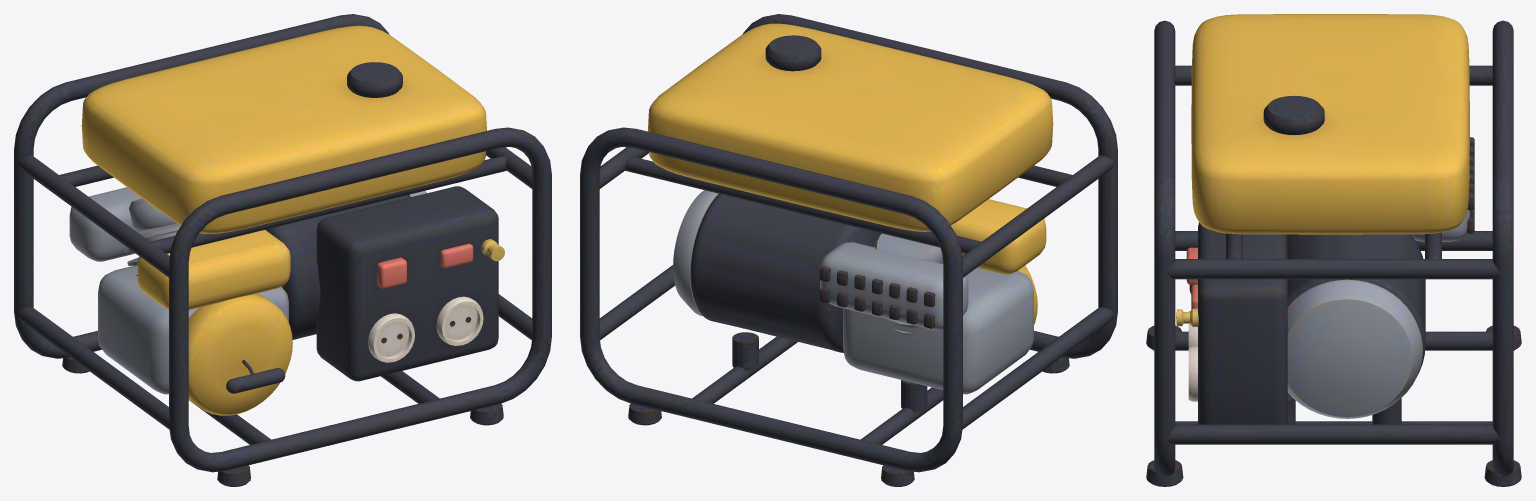
The model's file is generator.glb.
The picture shows the model from 3 angles, left to right: view 1: azimuth 30°, elevation 25°; view 2: azimuth 150°, elevation 25°; view 3: azimuth 270°, elevation 25°; orthographic projection. The views are drawn at different scales.
Visible parts, largest first — view 1: generator_body; view 2: generator_body; view 3: generator_body.
Part boxes in pixels (x1=…): generator_body: x1=14, y1=14, x2=551, y2=486; generator_body: x1=580, y1=14, x2=1117, y2=486; generator_body: x1=1146, y1=14, x2=1521, y2=486.
Bounding box in the file's own units: 0.722 × 0.576 × 0.566.
Materials: 1 (1 with a texture image).
